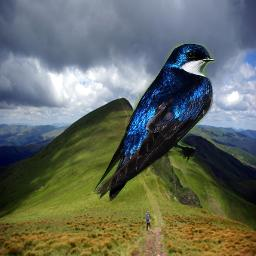Swallow: (92, 43, 216, 202)
